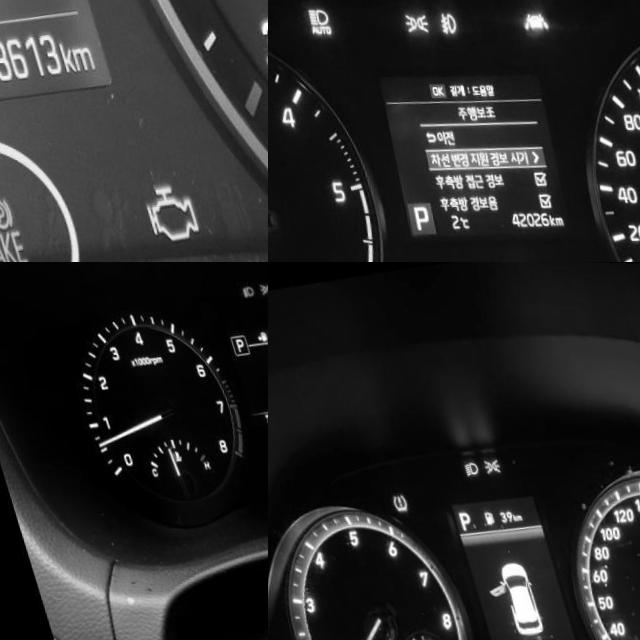FrontFogLight: (430, 9, 451, 33)
LaneCenteringOff: (515, 8, 542, 29)
Low beam: (455, 459, 472, 475), (234, 284, 248, 297)
SideLamp: (396, 9, 422, 33), (475, 455, 494, 473), (250, 280, 268, 294)
